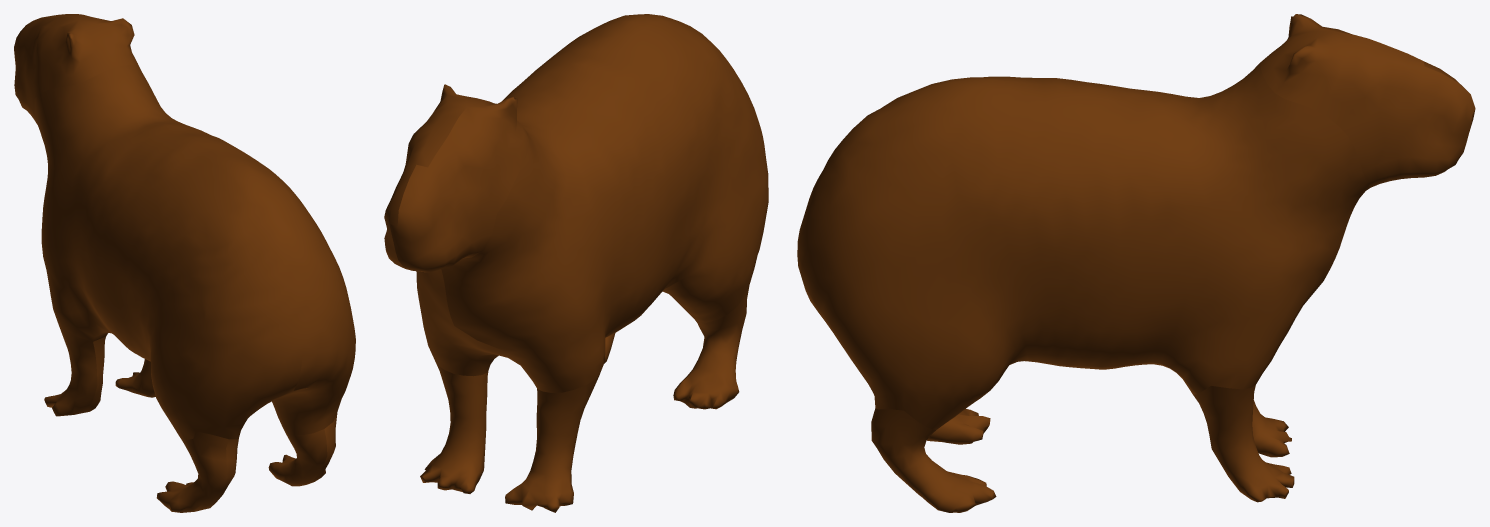
The model's file is 10capy.glb.
3 views of the same model, side by side, from view 1: azimuth 30°, elevation 25°; view 2: azimuth 150°, elevation 25°; view 3: azimuth 270°, elevation 25° (orthographic). The views are drawn at different scales.
Parts seen in each view (by area): view 1: 249451ce-7755-4816-bb7d-7c265519749b; view 2: 249451ce-7755-4816-bb7d-7c265519749b; view 3: 249451ce-7755-4816-bb7d-7c265519749b.
Part boxes in pixels (x1,y1,x2,y2): 249451ce-7755-4816-bb7d-7c265519749b: [14, 14, 355, 512]; 249451ce-7755-4816-bb7d-7c265519749b: [384, 14, 768, 512]; 249451ce-7755-4816-bb7d-7c265519749b: [797, 14, 1475, 512].
Size of the model in its own units: 0.0491 by 0.1006 by 0.1407.
